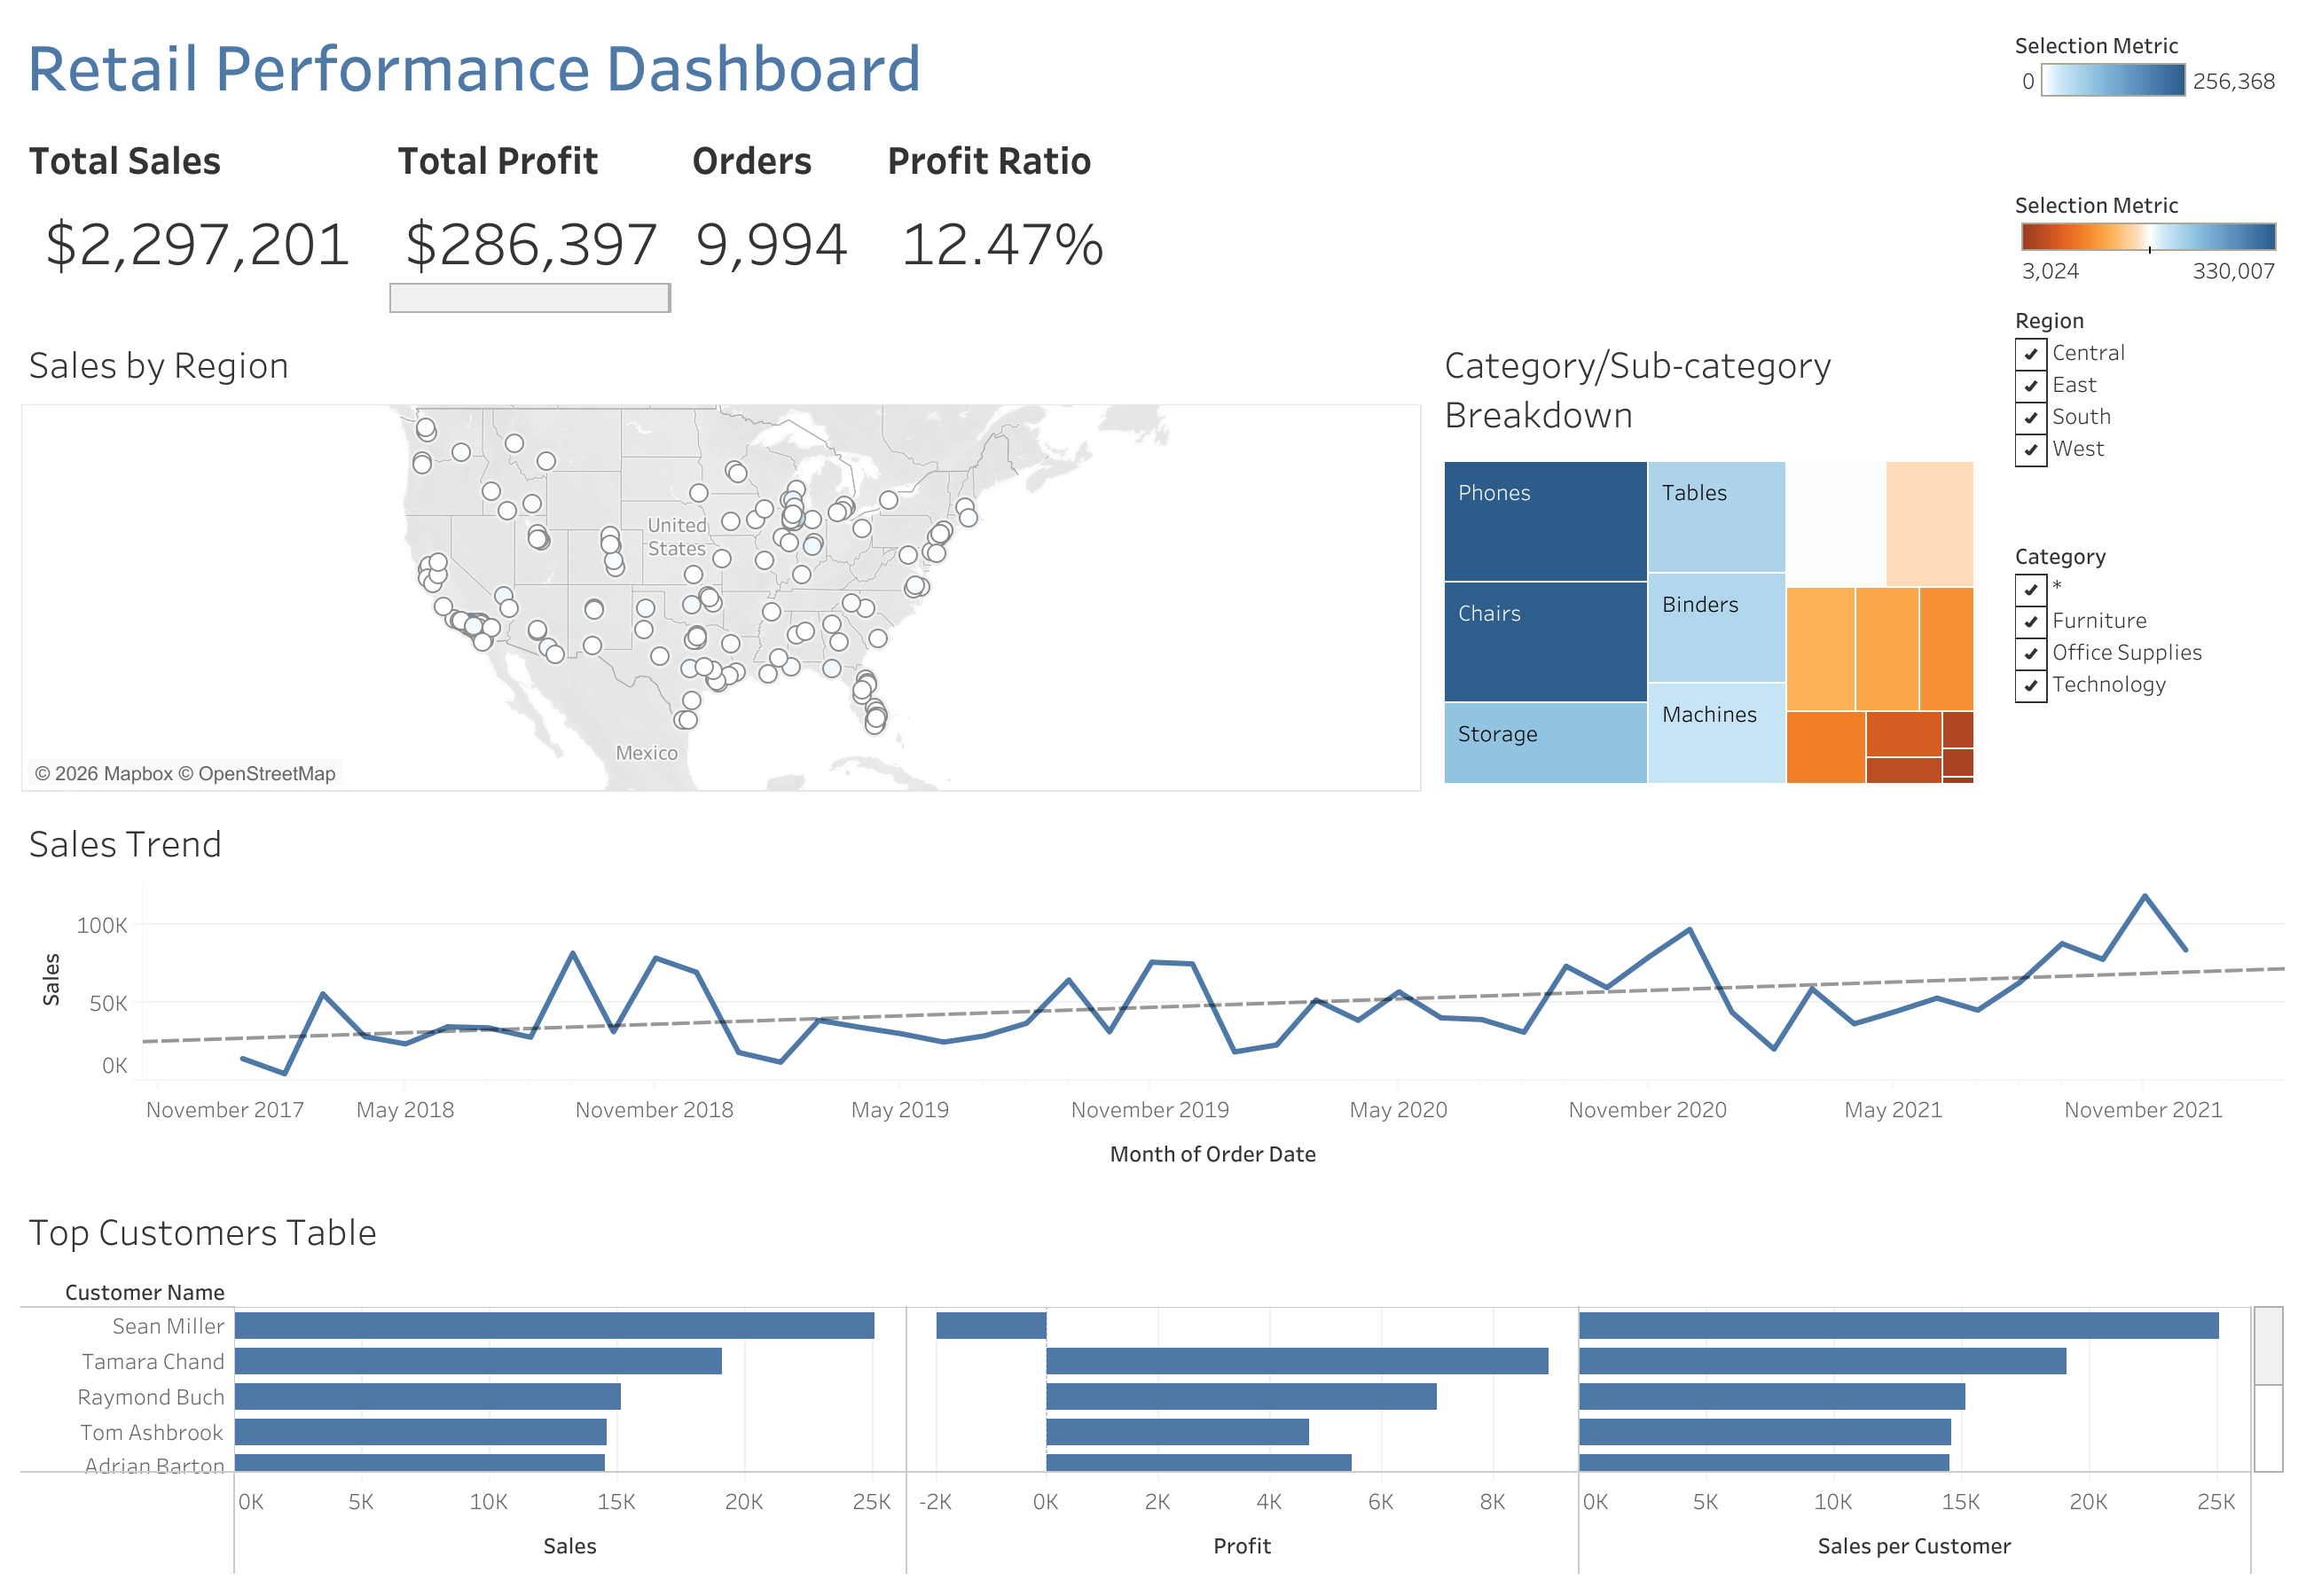

The dashboard page shown, as its layout file describes it:
{"tool":"tableau","page":{"name":"Dashboard 1","canvas":[1300,900],"ordinal":0},"visuals":[{"type":"title","box":[8,8,1124,57]},{"type":"legend","title":"Sales by Region","param":"[federated.1shjhg01go5eup11cmmyg013skav].[usr:Calculation_0014051454296194:qk]","box":[1132,8,160,68]},{"type":"worksheet","title":"KPI - Total Sales","mark":"Automatic","box":[8,65,208,116]},{"type":"worksheet","title":"KPI - Total Profit","mark":"Automatic","box":[216,65,166,116]},{"type":"worksheet","title":"KPI - Order Count","mark":"Automatic","box":[382,65,110,116]},{"type":"worksheet","title":"KPI - Profit Ratio","mark":"Automatic","box":[492,65,148,116]},{"type":"legend","title":"Category/Sub-category Breakdown","param":"[federated.1shjhg01go5eup11cmmyg013skav].[sum:Sales:qk]","box":[1132,76,160,22]},{"type":"legend","title":"Category/Sub-category Breakdown","param":"[federated.1shjhg01go5eup11cmmyg013skav].[usr:Calculation_0014051454296194:qk]","box":[1132,98,160,68]},{"type":"filter","title":"Sales by Region","param":"[federated.1shjhg01go5eup11cmmyg013skav].[none:Region:nk]","box":[1132,166,160,133]},{"type":"worksheet","title":"Sales by Region","mark":"Automatic","box":[8,181,798,270.2]},{"type":"worksheet","title":"Category/Sub-category Breakdown","mark":"Automatic","box":[806,181,326,270.2]},{"type":"filter","title":"Category/Sub-category Breakdown","param":"[federated.1shjhg01go5eup11cmmyg013skav].[attr:Category:nk]","box":[1132,299,160,133]},{"type":"worksheet","title":"Sales Trend","mark":"Automatic","rows":["Sales"],"cols":["Order Date"],"box":[8,451.2,1284,219.1]},{"type":"worksheet","title":"Top Customers Table","mark":"Automatic","rows":["Customer Name"],"cols":["Sales","Profit","Calculation_0001131450863672"],"box":[8,670.4,1284,221.6]}]}

Visuals, with their boxes in screenshot pixels (x1, y1, x2, y2), scaled from the page's 1300x900 canvas onto the 2306x1596 screenshot:
title: l=14, t=14, r=2008, b=115
"Sales by Region" legend: l=2008, t=14, r=2292, b=135
"KPI - Total Sales" worksheet: l=14, t=115, r=383, b=321
"KPI - Total Profit" worksheet: l=383, t=115, r=678, b=321
"KPI - Order Count" worksheet: l=678, t=115, r=873, b=321
"KPI - Profit Ratio" worksheet: l=873, t=115, r=1135, b=321
"Category/Sub-category Breakdown" legend: l=2008, t=135, r=2292, b=174
"Category/Sub-category Breakdown" legend: l=2008, t=174, r=2292, b=294
"Sales by Region" filter: l=2008, t=294, r=2292, b=530
"Sales by Region" worksheet: l=14, t=321, r=1430, b=800
"Category/Sub-category Breakdown" worksheet: l=1430, t=321, r=2008, b=800
"Category/Sub-category Breakdown" filter: l=2008, t=530, r=2292, b=766
"Sales Trend" worksheet: l=14, t=800, r=2292, b=1189
"Top Customers Table" worksheet: l=14, t=1189, r=2292, b=1582
